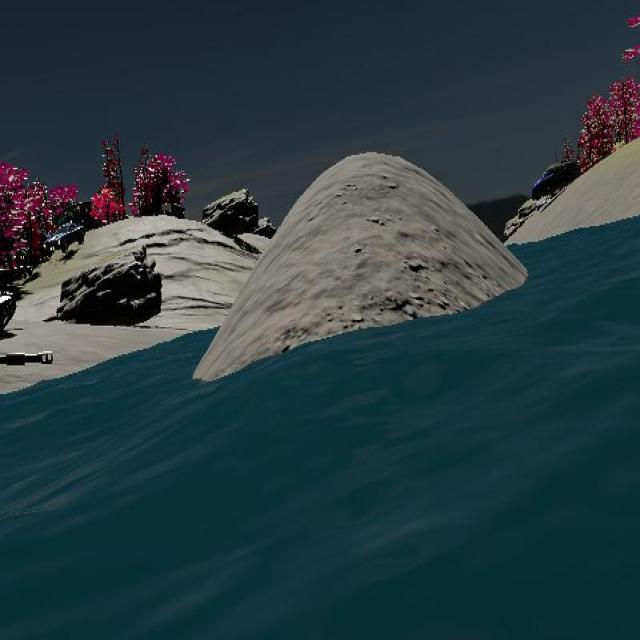Tank: (0, 344, 54, 501), (0, 264, 16, 344)
car: (531, 161, 571, 200)
